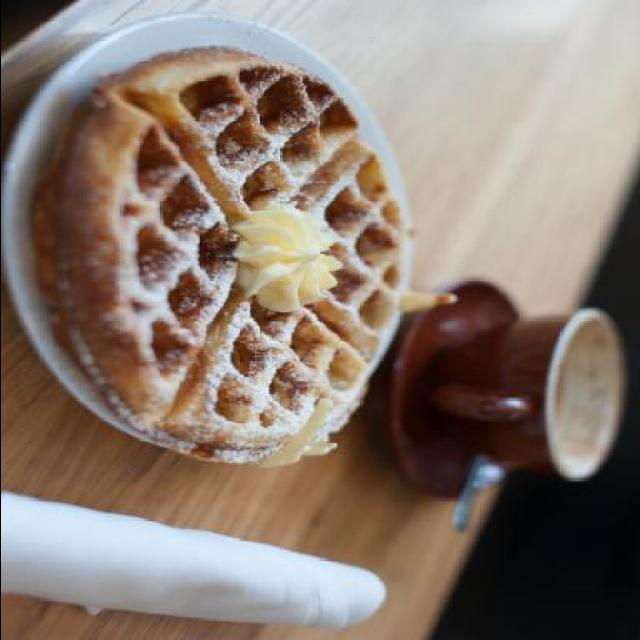Waffle: (21, 44, 408, 468)
